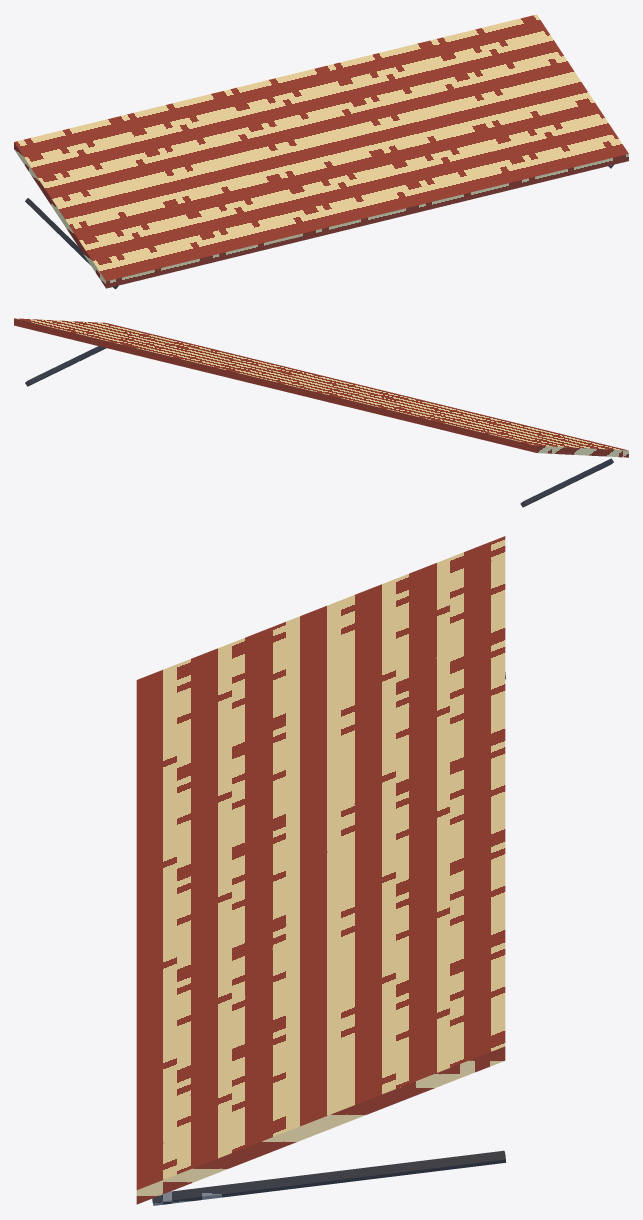
Rendered from wtown.porch__canvas.glb.
3 views of the same model, one above another, from view 1: azimuth 30°, elevation 25°; view 2: azimuth 150°, elevation 25°; view 3: azimuth 270°, elevation 25° (orthographic). The views are drawn at different scales.
Parts seen in each view (by area): view 1: kit_roof, kit_rods; view 2: kit_roof, kit_rods; view 3: kit_roof, kit_rods.
Boxes of the visible parts, x1,y1,x2,y2 form: kit_roof: [14, 14, 628, 288]; kit_rods: [25, 165, 613, 289]; kit_roof: [14, 318, 628, 457]; kit_rods: [25, 346, 613, 507]; kit_roof: [136, 536, 505, 1204]; kit_rods: [152, 672, 506, 1205].
Size of the model in its own units: 3.8 by 0.601 by 1.16.
Materials: 2 (2 with a texture image).
